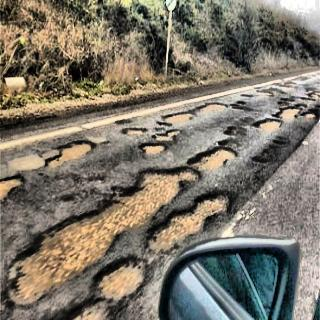pothole: (0, 132, 243, 320), (163, 79, 320, 172)
